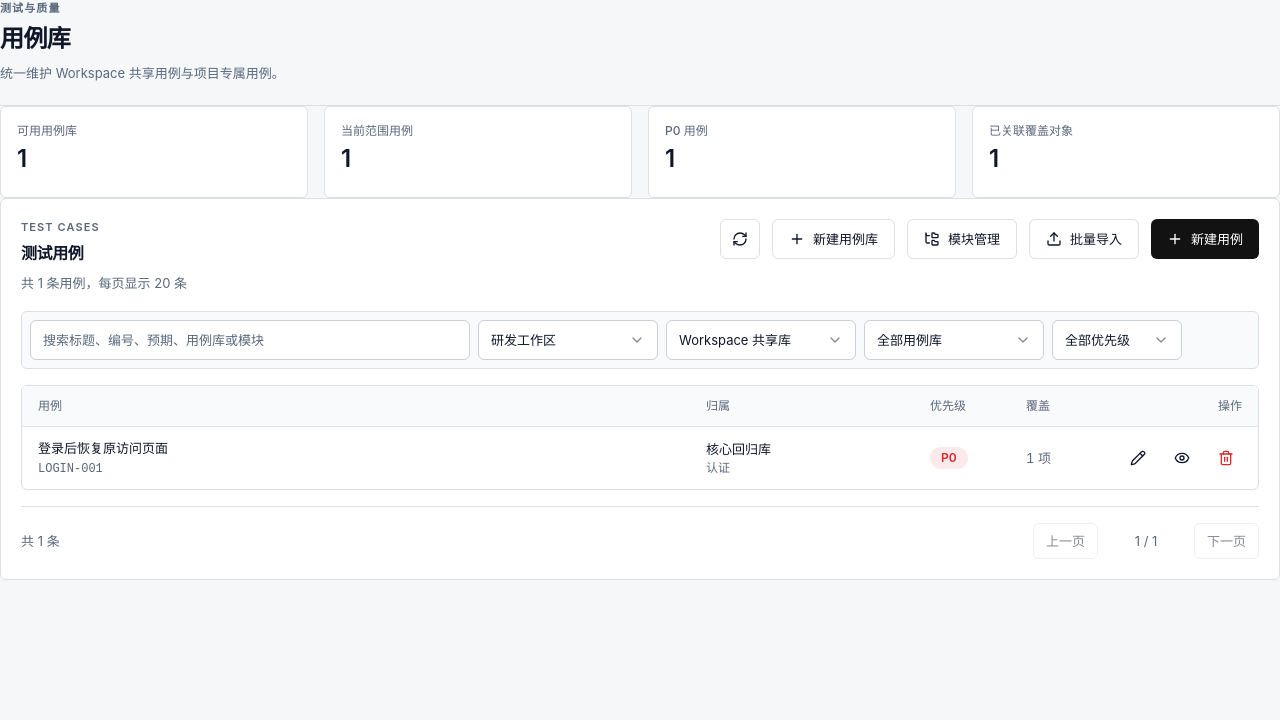
Test case: Quality pages › opens the batch import dialog with a CSV template action
What coordinates should you click on to do the following:
click the button "批量导入"
I would click on:
 (1084, 238)
Its box is [1029, 218, 1139, 258].
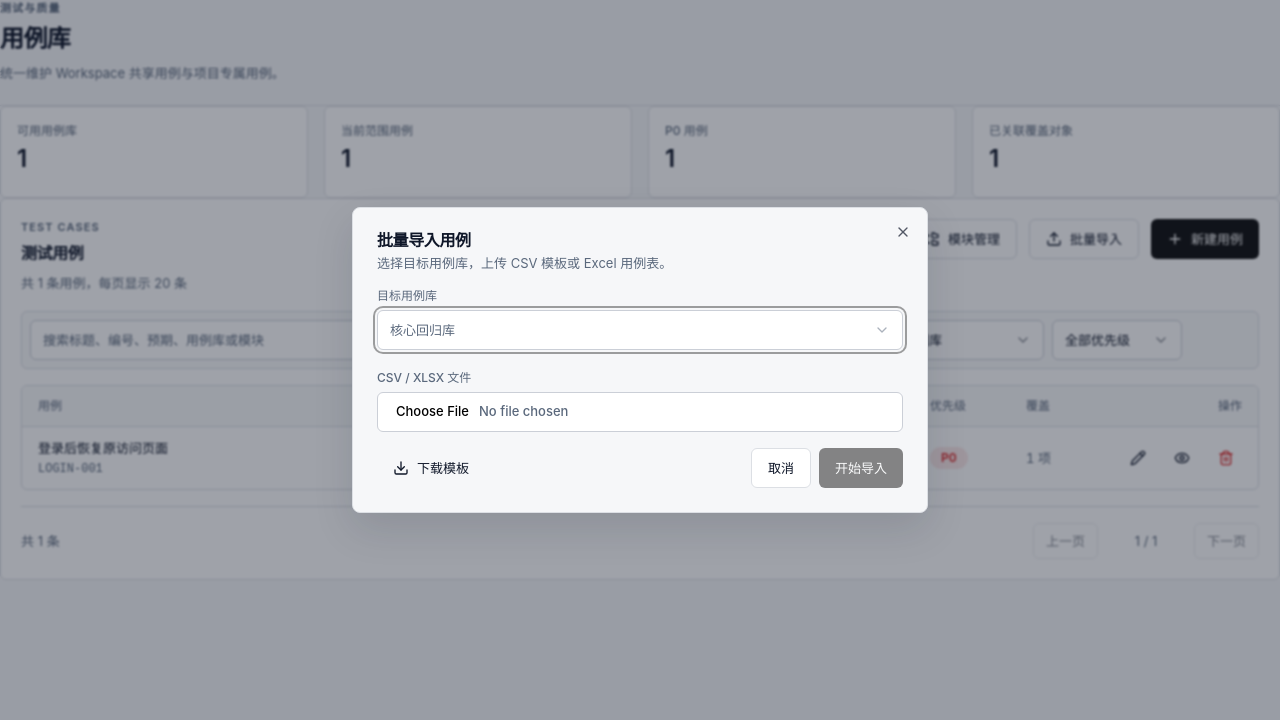
Check: the text "选择目标用例库，上传 CSV 模板或 Excel 用例表" is shown, box [377, 255, 672, 271]
Check: the text "下载模板" is shown, box [377, 448, 485, 488]
